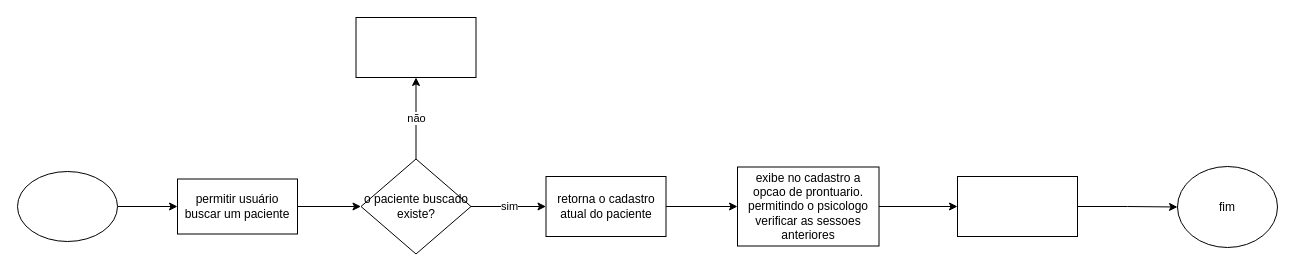
This 1295x272 diagram has some shape labels left out. Here are the shapes that lost their labels. From the top down, the box of each, then its label:
(355, 16, 476, 78): Retorna mensagem de erro, paciente nao existe no banco
(16, 170, 118, 242): inicio
(956, 176, 1078, 236): abre um pop-up para o psicologo escrever suas anotações sobre aquela sesao
